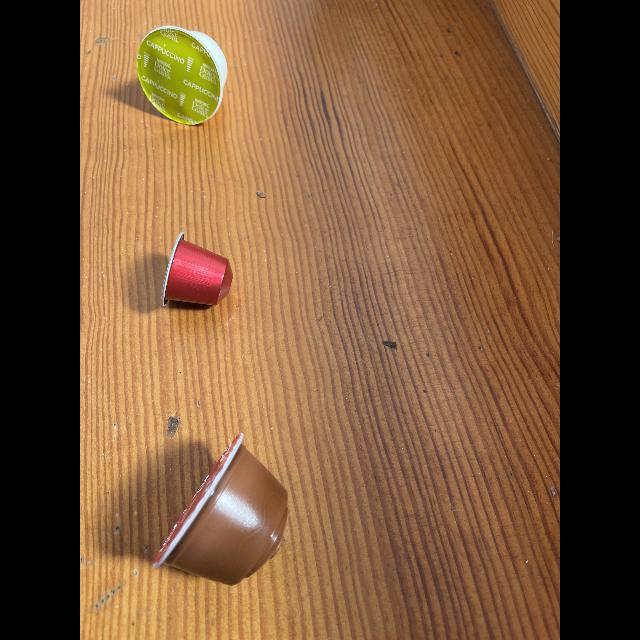intact_capsule: (148, 429, 320, 591), (130, 20, 236, 130), (158, 229, 238, 319)
